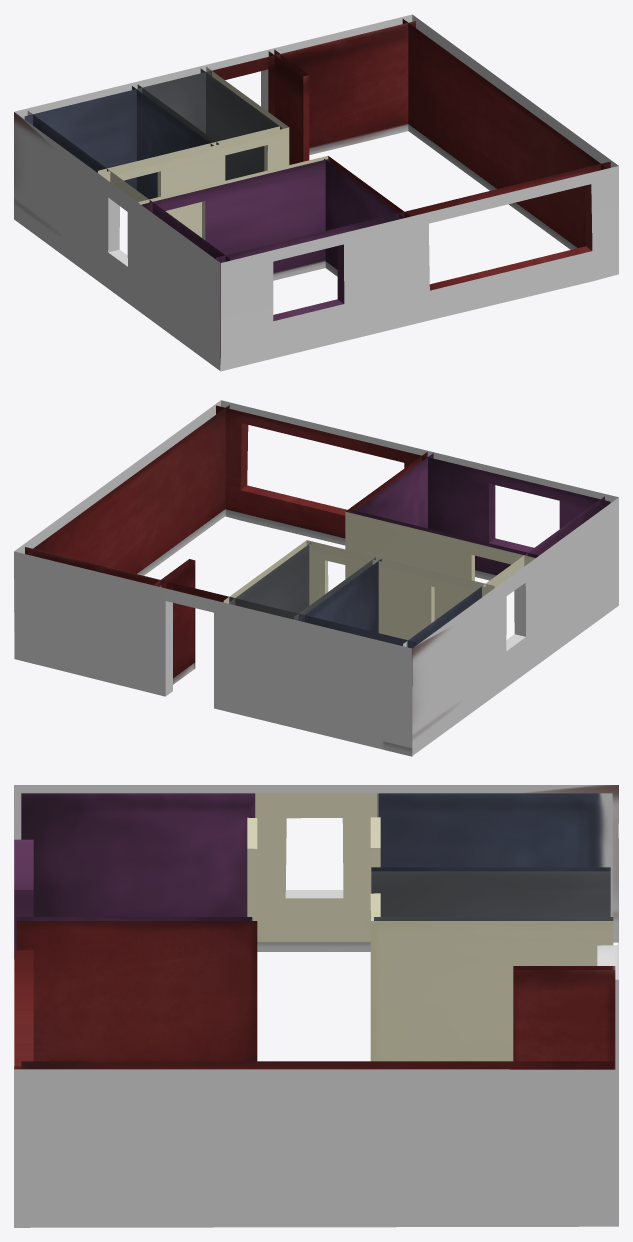
Rendered from appartamento_update.FBX.
3 renders of one model, top to bottom at view 1: azimuth 30°, elevation 25°; view 2: azimuth 150°, elevation 25°; view 3: azimuth 270°, elevation 25°, orthographic. The views are drawn at different scales.
Parts seen in each view (by area): view 1: appartamento; view 2: appartamento; view 3: appartamento.
Boxes of the visible parts, x1,y1,x2,y2 form: appartamento: [14, 14, 618, 371]; appartamento: [14, 400, 618, 756]; appartamento: [14, 785, 618, 1227].
Bounding box in the file's own units: 10 × 2.62 × 8.99.
